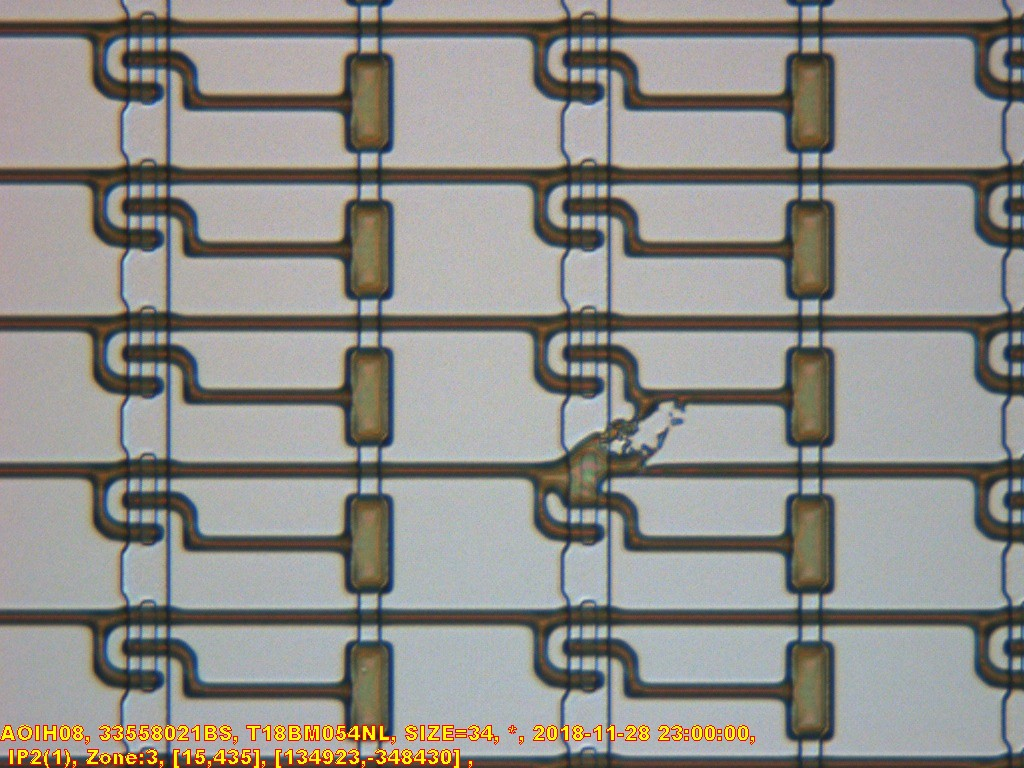PP02-C: (547, 391, 688, 506)
